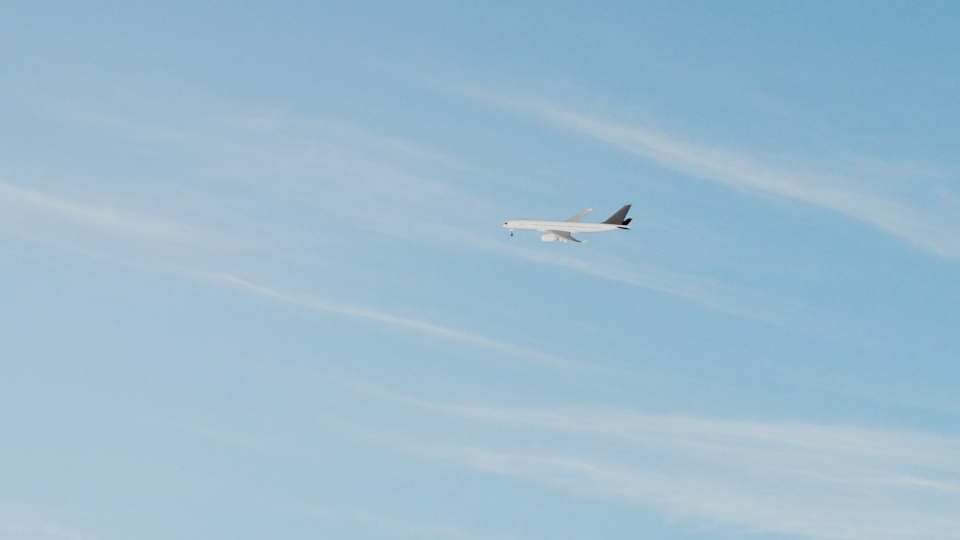plane: (501, 203, 630, 247)
